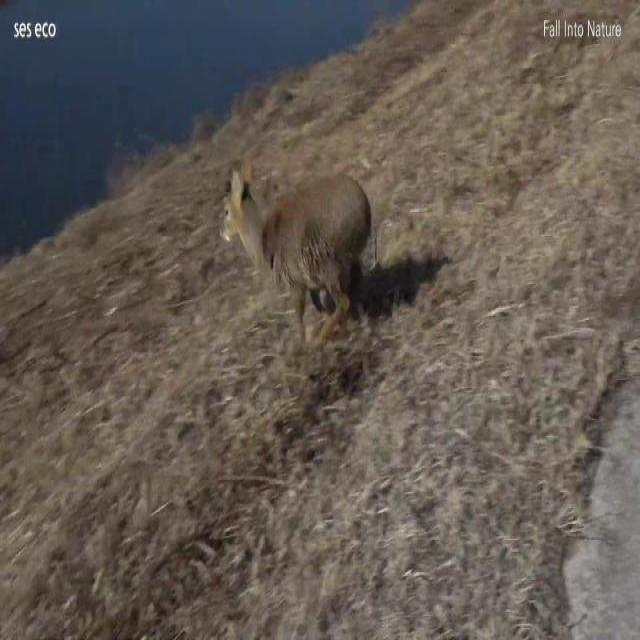deer: (218, 151, 372, 342)
